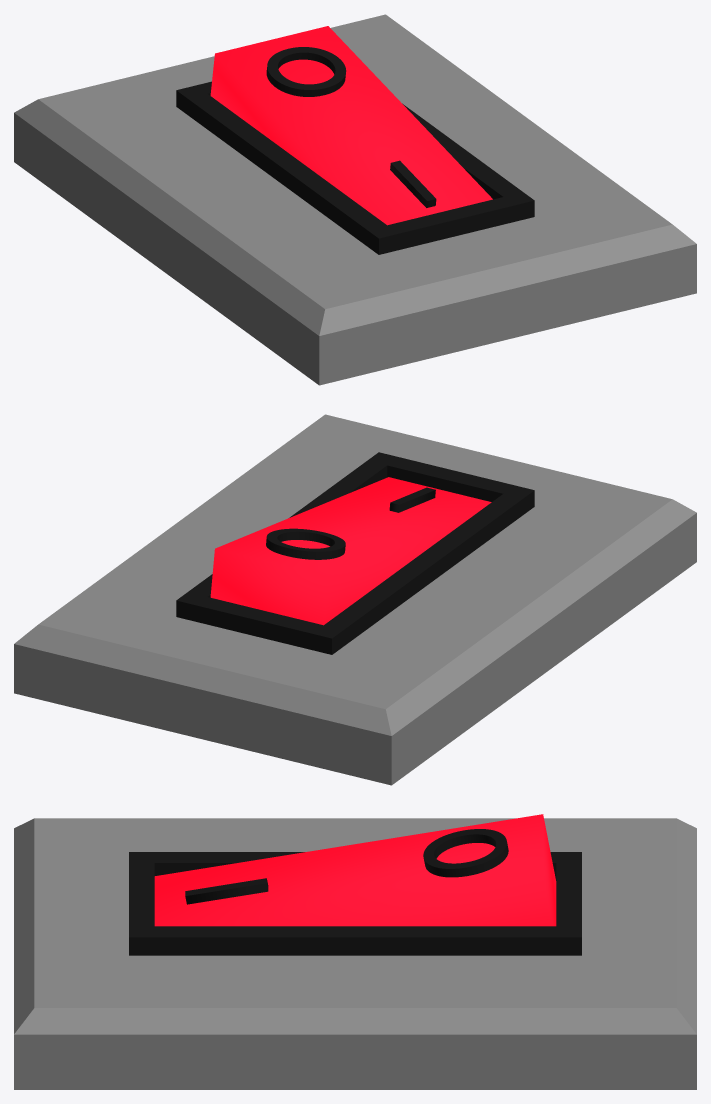
File: switch.fbx
3 renders of one model, top to bottom at view 1: azimuth 30°, elevation 25°; view 2: azimuth 150°, elevation 25°; view 3: azimuth 270°, elevation 25°, orthographic. The views are drawn at different scales.
Visible parts, largest first — view 1: base, clicky part, Cube.019; view 2: base, clicky part, Cube.019; view 3: base, clicky part, Cube.019.
Boxes of the visible parts, box(x1,y1,x2,y2) form: base: box(14, 14, 696, 385); clicky part: box(210, 26, 492, 225); Cube.019: box(176, 81, 534, 254); base: box(14, 414, 696, 785); clicky part: box(210, 477, 491, 625); Cube.019: box(176, 452, 534, 654); base: box(14, 818, 696, 1089); clicky part: box(154, 814, 556, 926); Cube.019: box(129, 852, 581, 955).
Bounding box in the file's own units: 2.4 × 0.7849 × 3.36.
